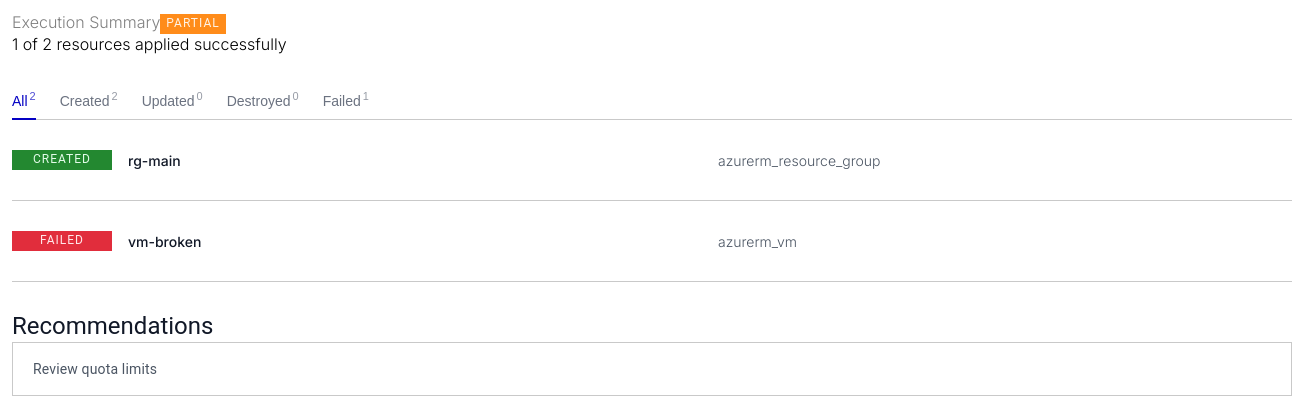
Test: ArtifactContent apply reports › opens the resource detail overlay from a row
Click the text "vm-broken" at (165, 241), box [128,232,201,250]
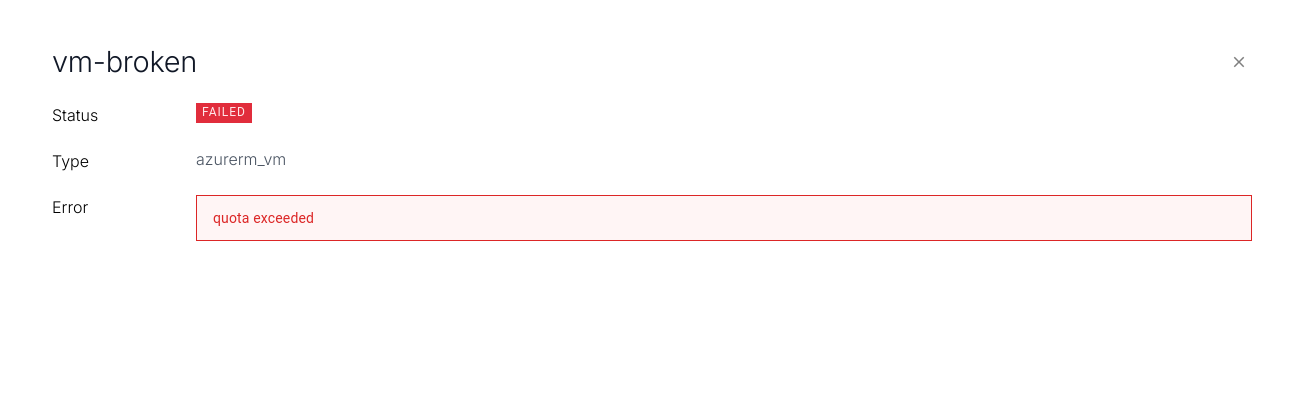
Check: the text "quota exceeded" is shown, box [196,195,1252,241]
